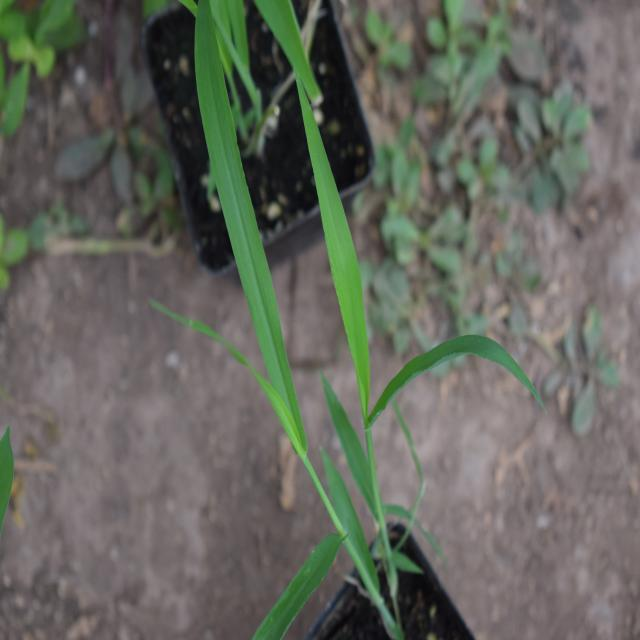crabgrass: (160, 28, 468, 572)
